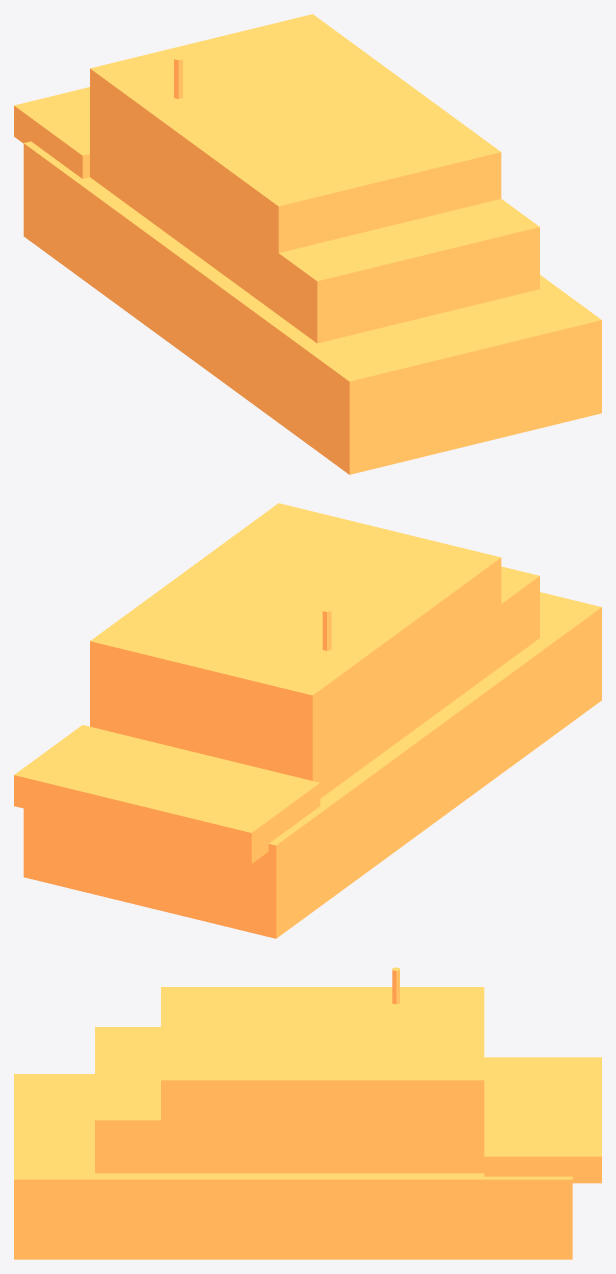
The model's file is hatch.glb.
The picture shows the model from 3 angles, top to bottom: view 1: azimuth 30°, elevation 25°; view 2: azimuth 150°, elevation 25°; view 3: azimuth 270°, elevation 25°; orthographic projection. The views are drawn at different scales.
Visible parts, largest first — view 1: hatch; view 2: hatch; view 3: hatch.
Part boxes in pixels (x1=…): hatch: x1=14, y1=14, x2=601, y2=474; hatch: x1=14, y1=503, x2=601, y2=938; hatch: x1=14, y1=967, x2=601, y2=1259.
Bounding box in the file's own units: 1.7 × 1.55 × 4.
